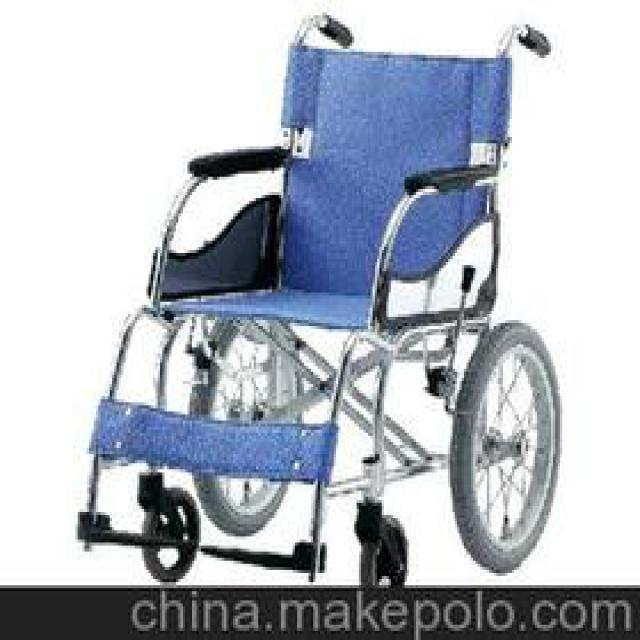wheelchair: (73, 6, 551, 582)
